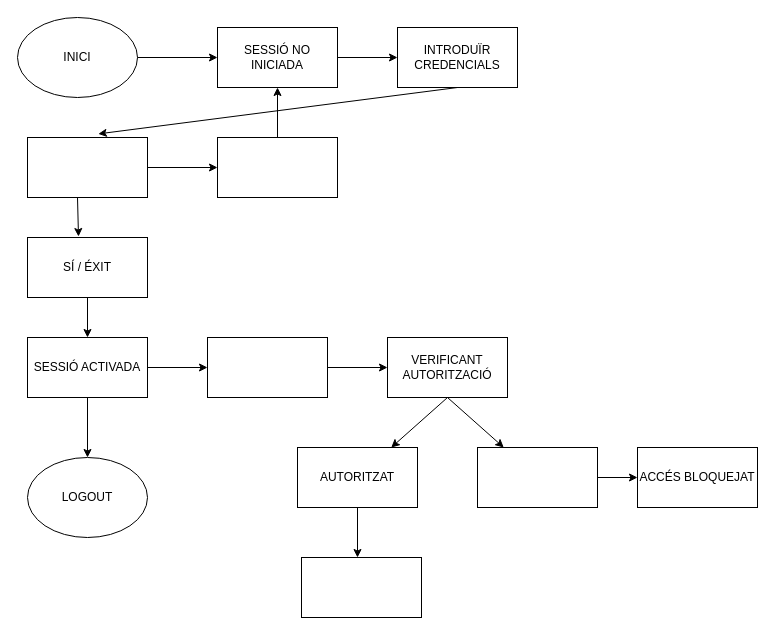
This 775x635 diagram has some shape labels left out. The shapes that lost their labels are listed below. From the top down, each one's centre as x and y in pixels, then its label:
At (87,167): "ATENTICANT".
At (277,167): "CREDENCIALS INCORRECTES / ERROR".
At (267,367): "SELECCIONAR RECURS".
At (537,477): "NO AUTORITZAT".
At (361,587): "RECURS OBERT".
